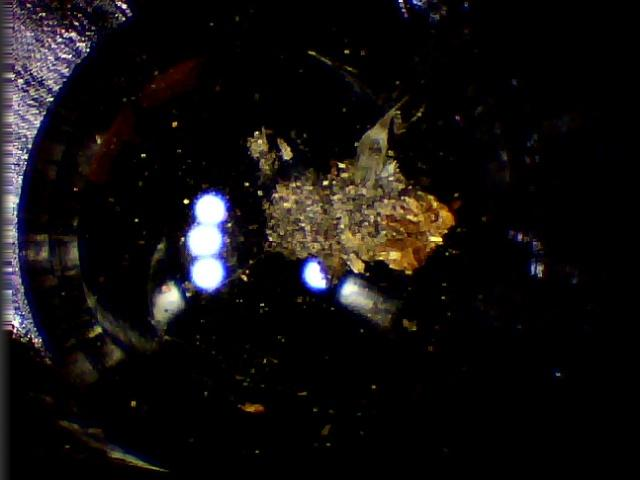megot: (231, 88, 457, 337)
